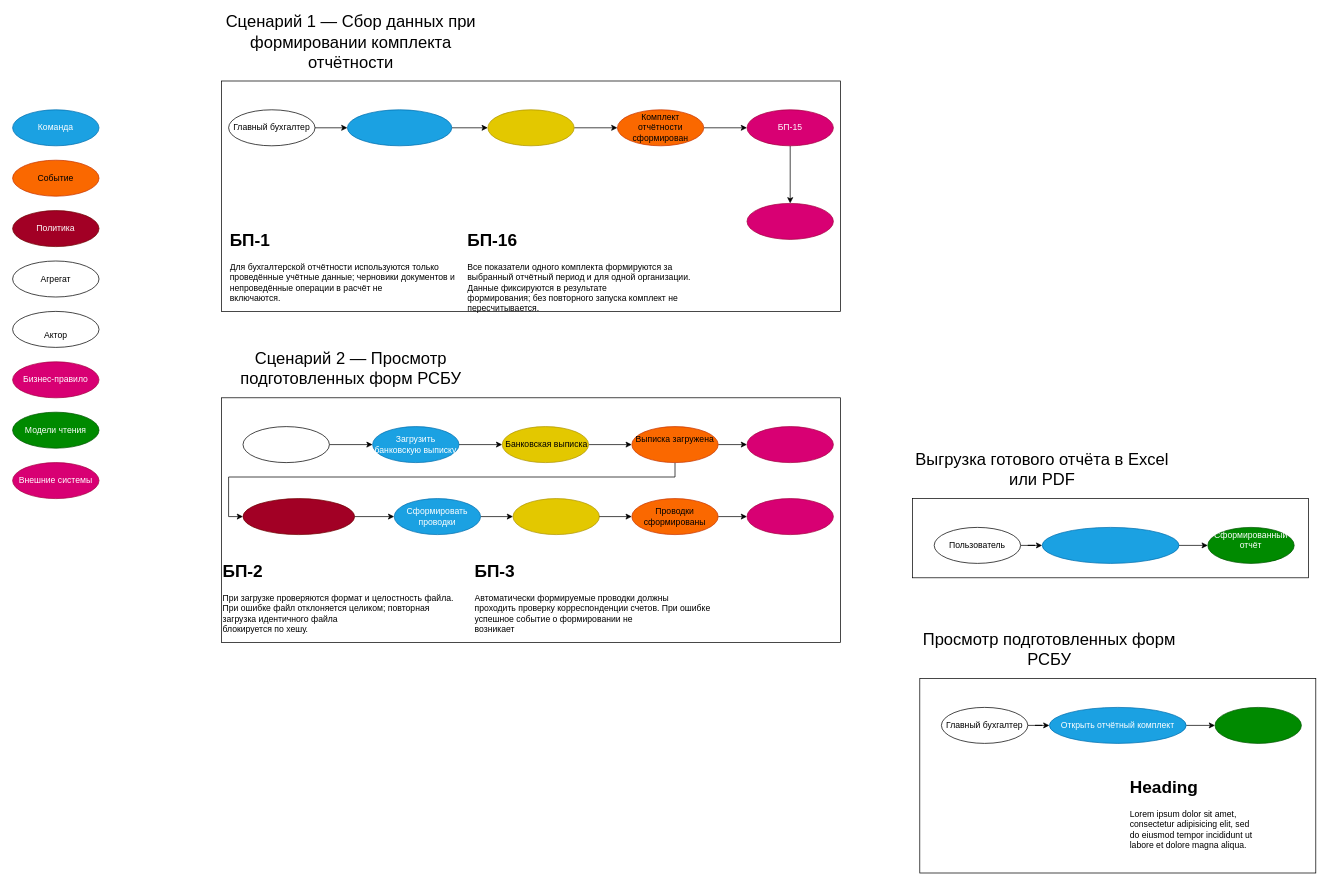
The diagram is 1328 pixels wide and 886 high, and some of its shapes have lost their labels. Here are the shapes that lost their labels. From the top down, the centre of each, then its label:
(399,127): Сформировать комплект отчётности
(530,127): Отчётный комплект
(789,221): БП-16
(285,444): Бухгалтер
(789,444): БП-2
(298,516): Автоматически начать формирование
(555,516): Учётный документ
(789,516): БП-3
(1110,545): Экспортировать отчёт: Excel / PDF
(1257,725): Бухгалтерский баланс / ОФР / ОДДС
